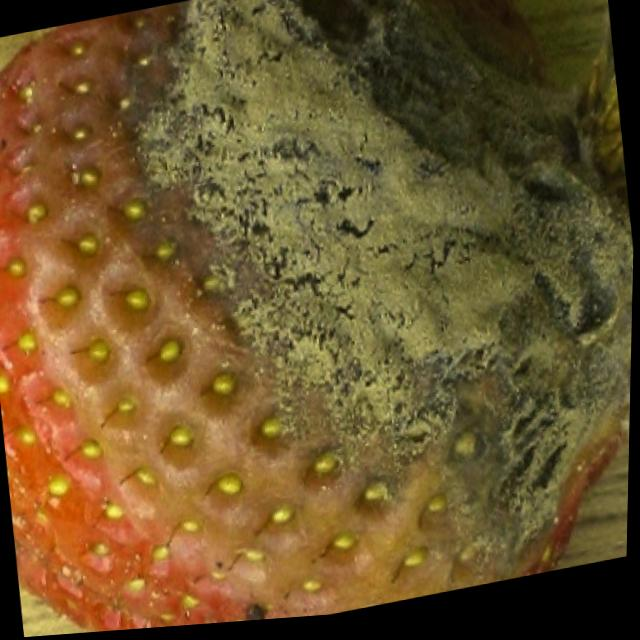Gray Mold: (0, 0, 635, 633)
